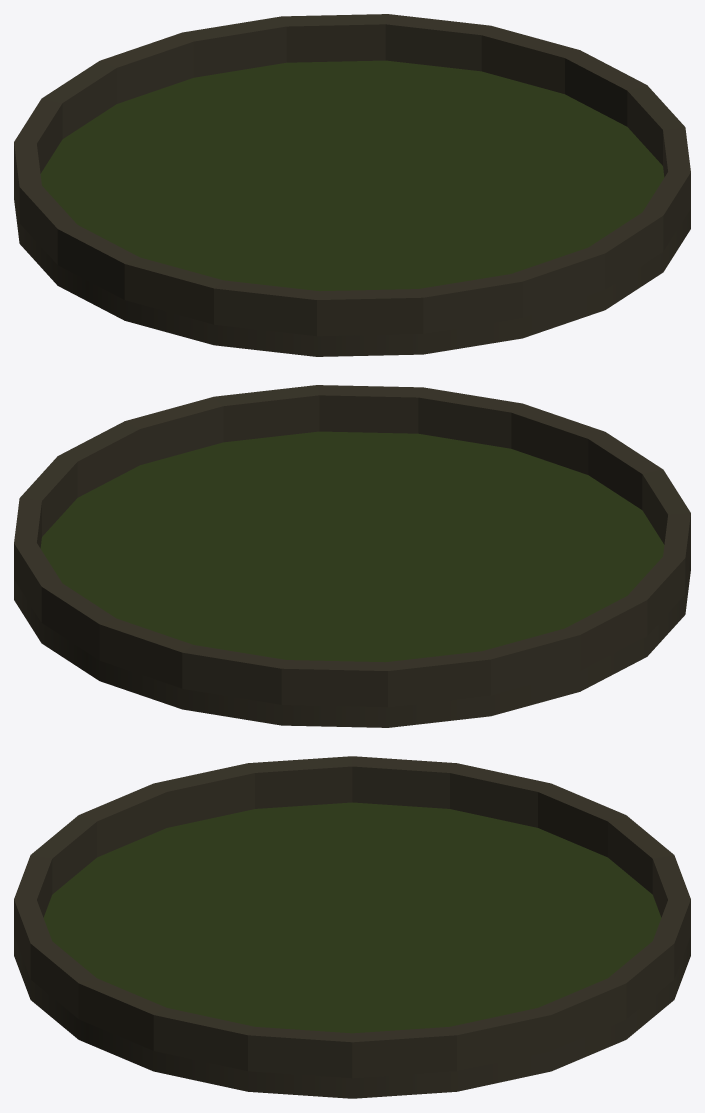
Rendered from lav5.fbx.
The picture shows the model from 3 angles, top to bottom: view 1: azimuth 30°, elevation 25°; view 2: azimuth 150°, elevation 25°; view 3: azimuth 270°, elevation 25°; orthographic projection.
Visible parts, largest first — view 1: pCylinder4; view 2: pCylinder4; view 3: pCylinder4.
Boxes of the visible parts, x1,y1,x2,y2 form: pCylinder4: [14, 14, 690, 356]; pCylinder4: [14, 385, 690, 727]; pCylinder4: [14, 756, 690, 1098].
Size of the model in its own units: 1977 by 182 by 1977.
